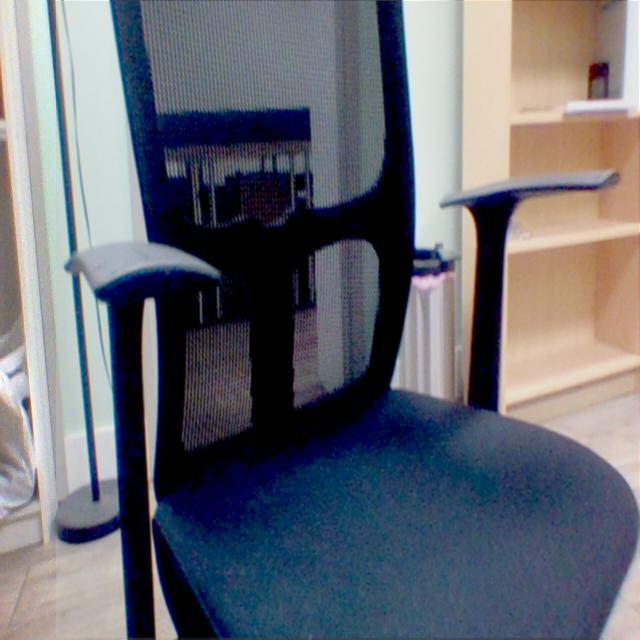black-chair: (56, 1, 640, 639)
